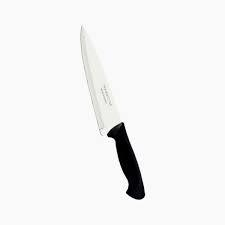Knife: (78, 23, 145, 199)
